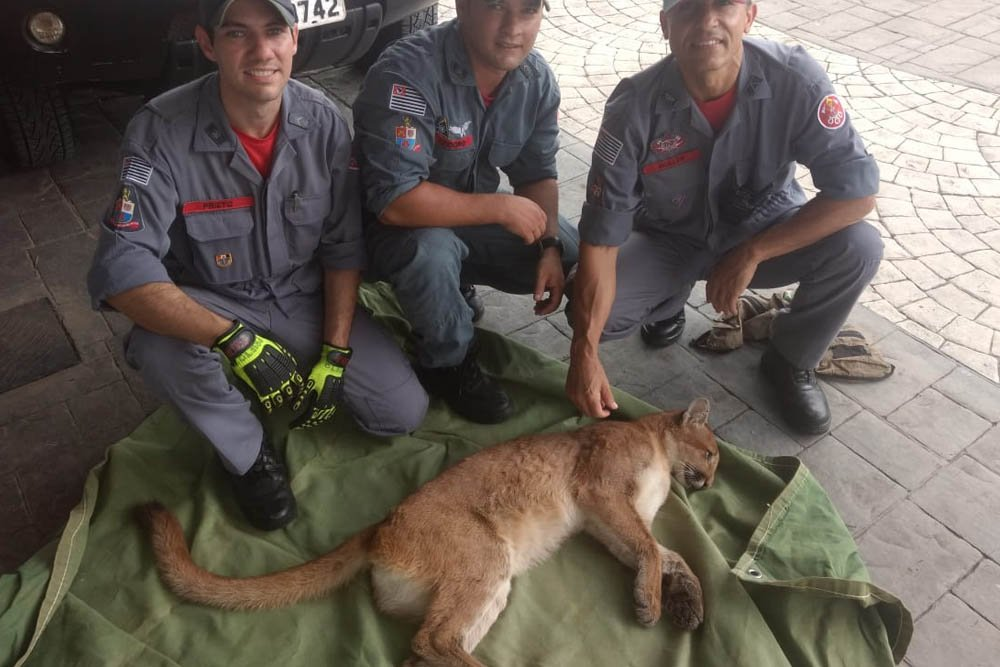OncaParda: (127, 394, 727, 658)
